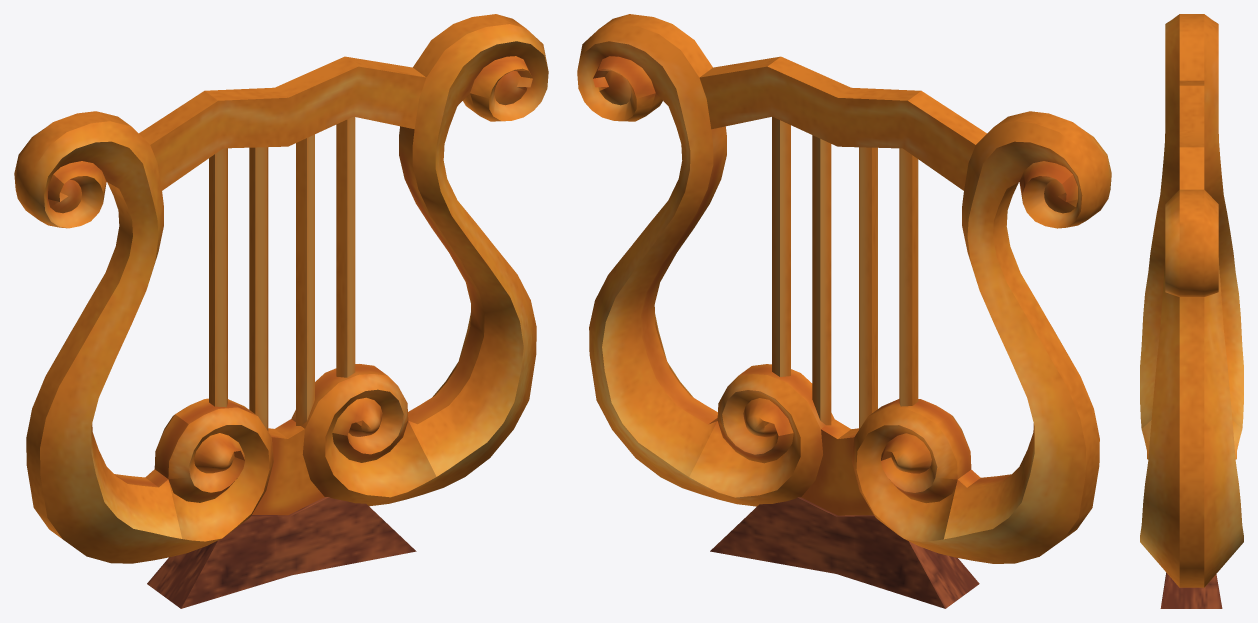
The model's file is harp_fixed.fbx.
3 renders of one model, left to right at view 1: azimuth 30°, elevation 25°; view 2: azimuth 150°, elevation 25°; view 3: azimuth 270°, elevation 25°, orthographic. The views are drawn at different scales.
Visible parts, largest first — view 1: harp_fixed; view 2: harp_fixed; view 3: harp_fixed.
Part boxes in pixels (box(x1,y1,x2,y2)): harp_fixed: box(14, 14, 548, 608); harp_fixed: box(577, 14, 1111, 608); harp_fixed: box(1140, 14, 1243, 608).
Size of the model in its own units: 101 by 92.51 by 19.42.
